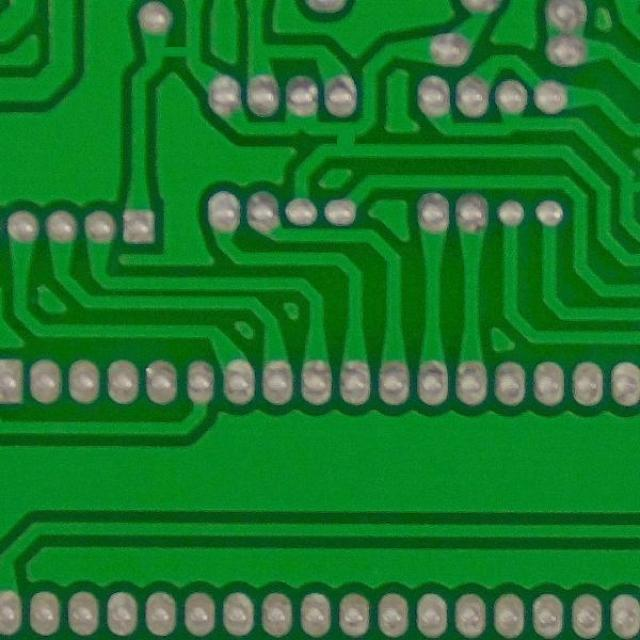short: (145, 16, 201, 79), (318, 118, 370, 164), (619, 163, 639, 214)
